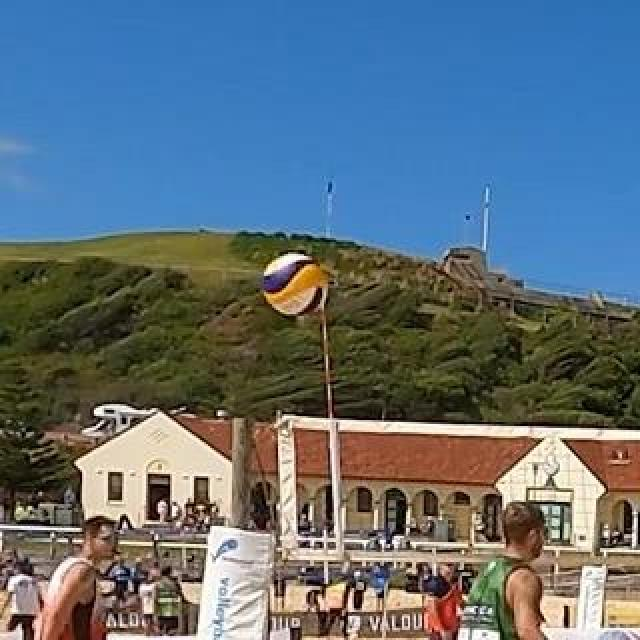volleyball: (262, 252, 328, 316)
